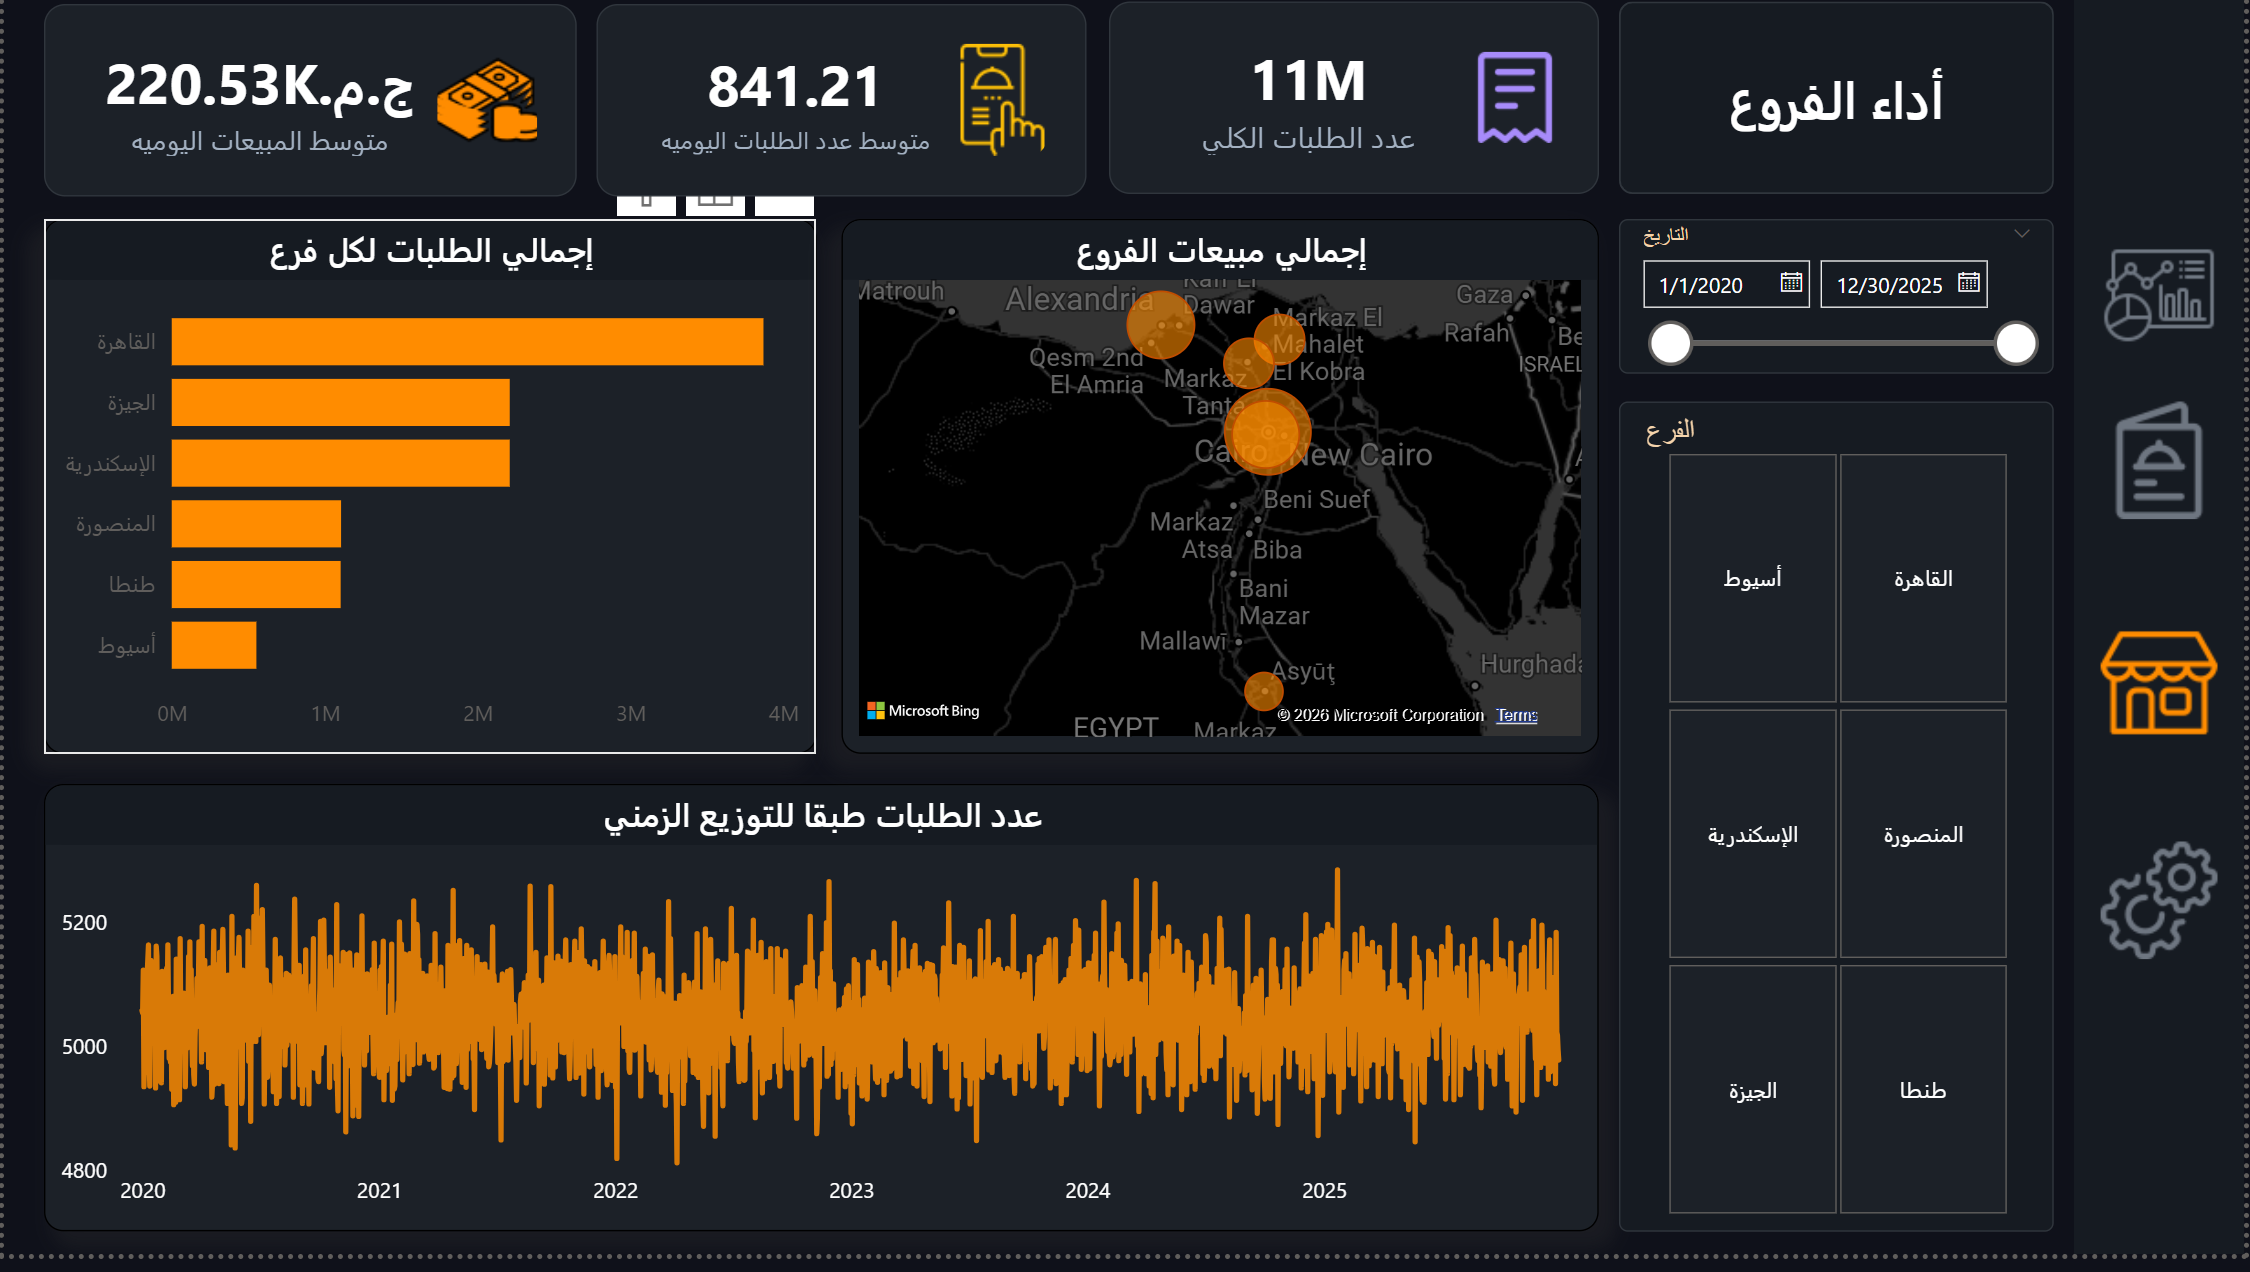

This screenshot's page, from the dashboard's own definition file:
{"tool":"powerbi","page":{"name":"Branch Performance","canvas":[1280,720],"ordinal":2},"visuals":[{"type":"clusteredBarChart","title":"إجمالي الطلبات لكل فرع","fields":{"Category":["gold_dim_branch.branch"],"Y":["Sum(gold_daily_branch_metrics.daily_orders_count)"]},"box":[22.9,128.6,441.4,305.7],"z":0},{"type":"lineChart","title":"عدد الطلبات طبقا للتوزيع الزمني","fields":{"Category":["gold_daily_branch_metrics.order_date"],"Y":["Sum(gold_daily_branch_metrics.daily_orders_count)"]},"box":[22.9,451.4,888.6,255.7],"z":1000},{"type":"slicer","title":"الفرع","fields":{"Values":["gold_dim_branch.branch"]},"box":[922.9,232.9,248.6,474.3],"z":2000},{"type":"cardVisual","title":"branch total orders","fields":{"Data":["Sum(gold_daily_branch_metrics.daily_orders_count)"]},"box":[631,4.3,280,110],"z":3000},{"type":"map","title":"إجمالي مبيعات الفروع","fields":{"Category":["gold_dim_branch.branch"],"Size":["Sum(gold_daily_branch_metrics.daily_revenue)"]},"box":[478.6,128.6,432.9,305.7],"z":4000},{"type":"slicer","fields":{"Values":["gold_daily_branch_metrics.order_date"]},"box":[922.9,128.6,248.6,88.6],"z":5000},{"type":"cardVisual","fields":{"Data":["Avg(gold_daily_branch_metrics.daily_revenue)"]},"box":[22.9,5.7,304.3,110],"z":6000},{"type":"cardVisual","title":"branch avg daily orders","fields":{"Data":["Avg(gold_daily_branch_metrics.daily_orders_count)"]},"box":[339,6,280,110],"z":7000},{"type":"group","id":"g1","title":"Group 1","box":[1182.9,0,97.1,720],"z":8000},{"type":"shape","box":[922.9,4.3,248.6,110],"z":9000},{"type":"shape","box":[1182.9,0,97.1,720],"z":11000,"group":"g1"},{"type":"image","box":[1182.9,138.6,97.1,67.1],"z":13000,"group":"g1"},{"type":"image","box":[1182.9,484.3,97.1,67.1],"z":14000,"group":"g1"},{"type":"image","box":[1182.9,232.9,97.1,67.1],"z":15000,"group":"g1"},{"type":"image","box":[1182.9,360,97.1,67.1],"z":16000,"group":"g1"}]}

Visuals, with their boxes in screenshot pixels (x1, y1, x2, y2), scaled from the page's 1280x720 canvas onto the 2250x1272 screenshot:
"إجمالي الطلبات لكل فرع" clusteredBarChart: x1=40, y1=227, x2=816, y2=767
"عدد الطلبات طبقا للتوزيع الزمني" lineChart: x1=40, y1=797, x2=1602, y2=1249
"الفرع" slicer: x1=1622, y1=411, x2=2059, y2=1249
"branch total orders" cardVisual: x1=1109, y1=8, x2=1601, y2=202
"إجمالي مبيعات الفروع" map: x1=841, y1=227, x2=1602, y2=767
slicer - gold_daily_branch_metrics.order_date: x1=1622, y1=227, x2=2059, y2=384
cardVisual - Avg(gold_daily_branch_metrics.daily_revenue): x1=40, y1=10, x2=575, y2=204
"branch avg daily orders" cardVisual: x1=596, y1=11, x2=1088, y2=205
"Group 1" group: x1=2079, y1=0, x2=2249, y2=1271
shape: x1=1622, y1=8, x2=2059, y2=202
shape: x1=2079, y1=0, x2=2249, y2=1271
image: x1=2079, y1=245, x2=2249, y2=363
image: x1=2079, y1=856, x2=2249, y2=974
image: x1=2079, y1=411, x2=2249, y2=530
image: x1=2079, y1=636, x2=2249, y2=755
